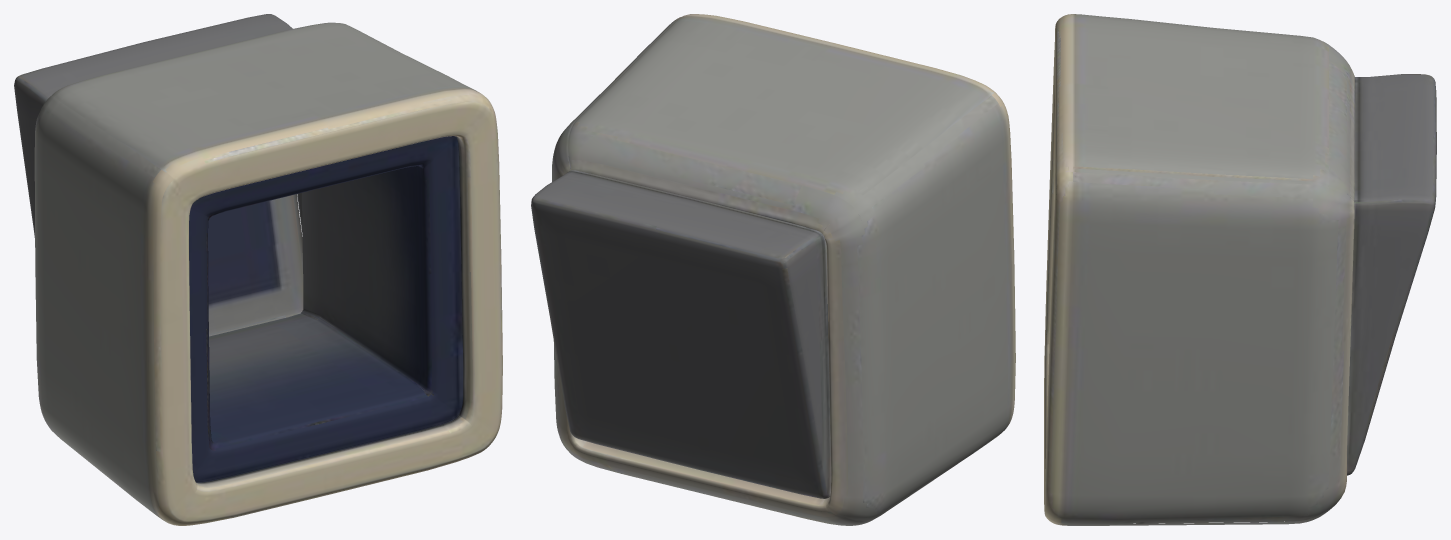
Rendered from Mod_WallFanBody.glb.
The picture shows the model from 3 angles, left to right: view 1: azimuth 30°, elevation 25°; view 2: azimuth 150°, elevation 25°; view 3: azimuth 270°, elevation 25°; orthographic projection. The views are drawn at different scales.
Visible parts, largest first — view 1: b6258197_5c69_43d8_be7e_72eede019017; view 2: b6258197_5c69_43d8_be7e_72eede019017; view 3: b6258197_5c69_43d8_be7e_72eede019017.
Boxes of the visible parts, <box> form: b6258197_5c69_43d8_be7e_72eede019017: <box>14,14,502,525</box>; b6258197_5c69_43d8_be7e_72eede019017: <box>531,14,1015,525</box>; b6258197_5c69_43d8_be7e_72eede019017: <box>1044,14,1436,525</box>.
Bounding box in the file's own units: 0.9897 × 0.9995 × 0.9438.
1 material, 1 textured.
